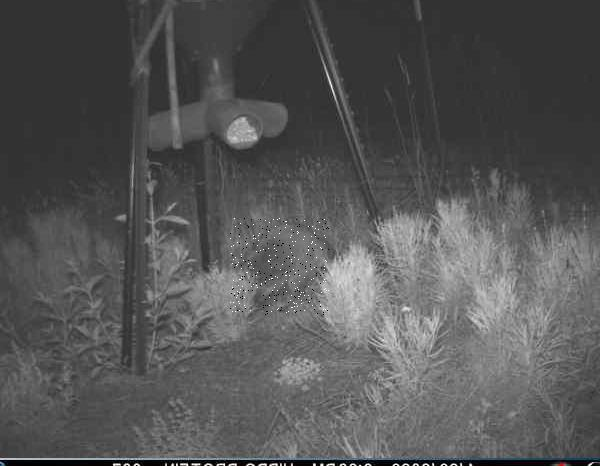Raccoon: (230, 219, 329, 316)
